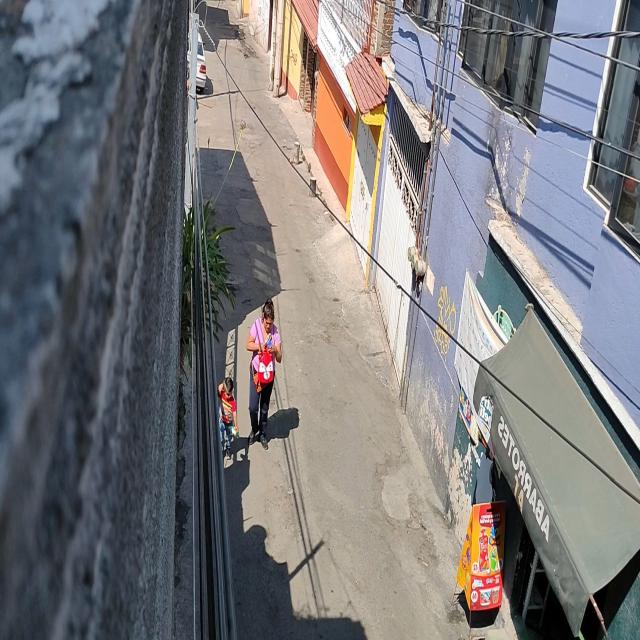adult: (246, 299, 283, 448), (216, 374, 238, 460)
